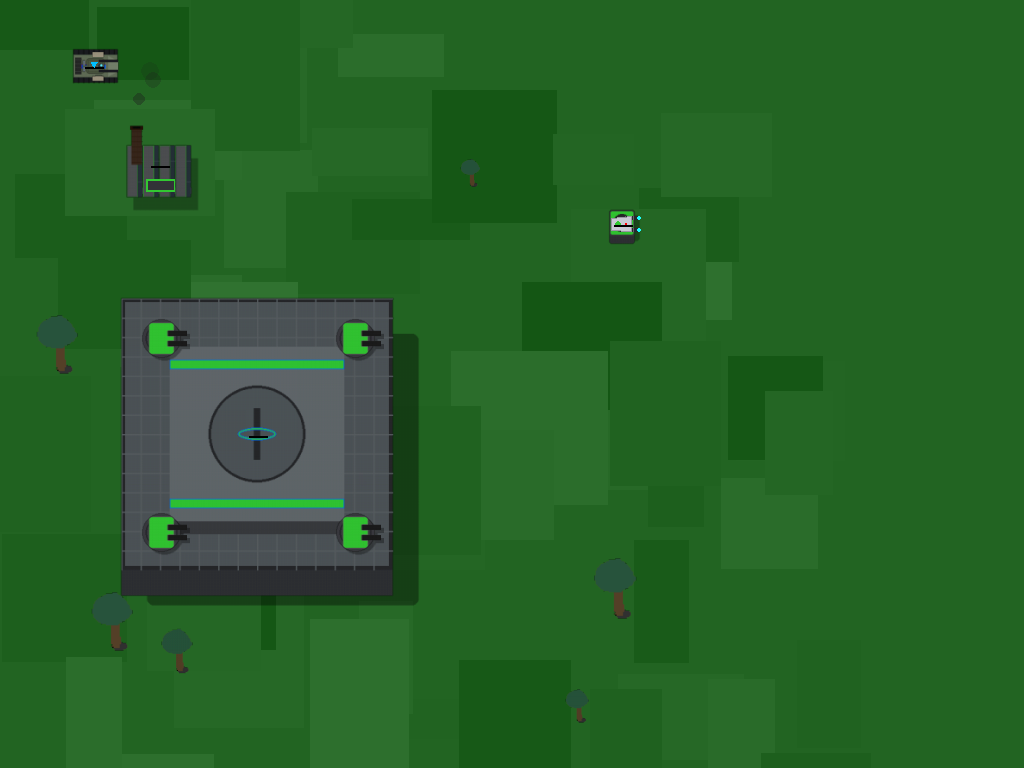APC_chn: (72, 43, 116, 87)
AntiAirTurret: (601, 202, 645, 246)
Bastion: (96, 273, 419, 596)
FactoryBuilding: (115, 120, 204, 209)
